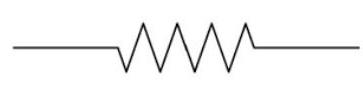resistor: (105, 17, 273, 78)
